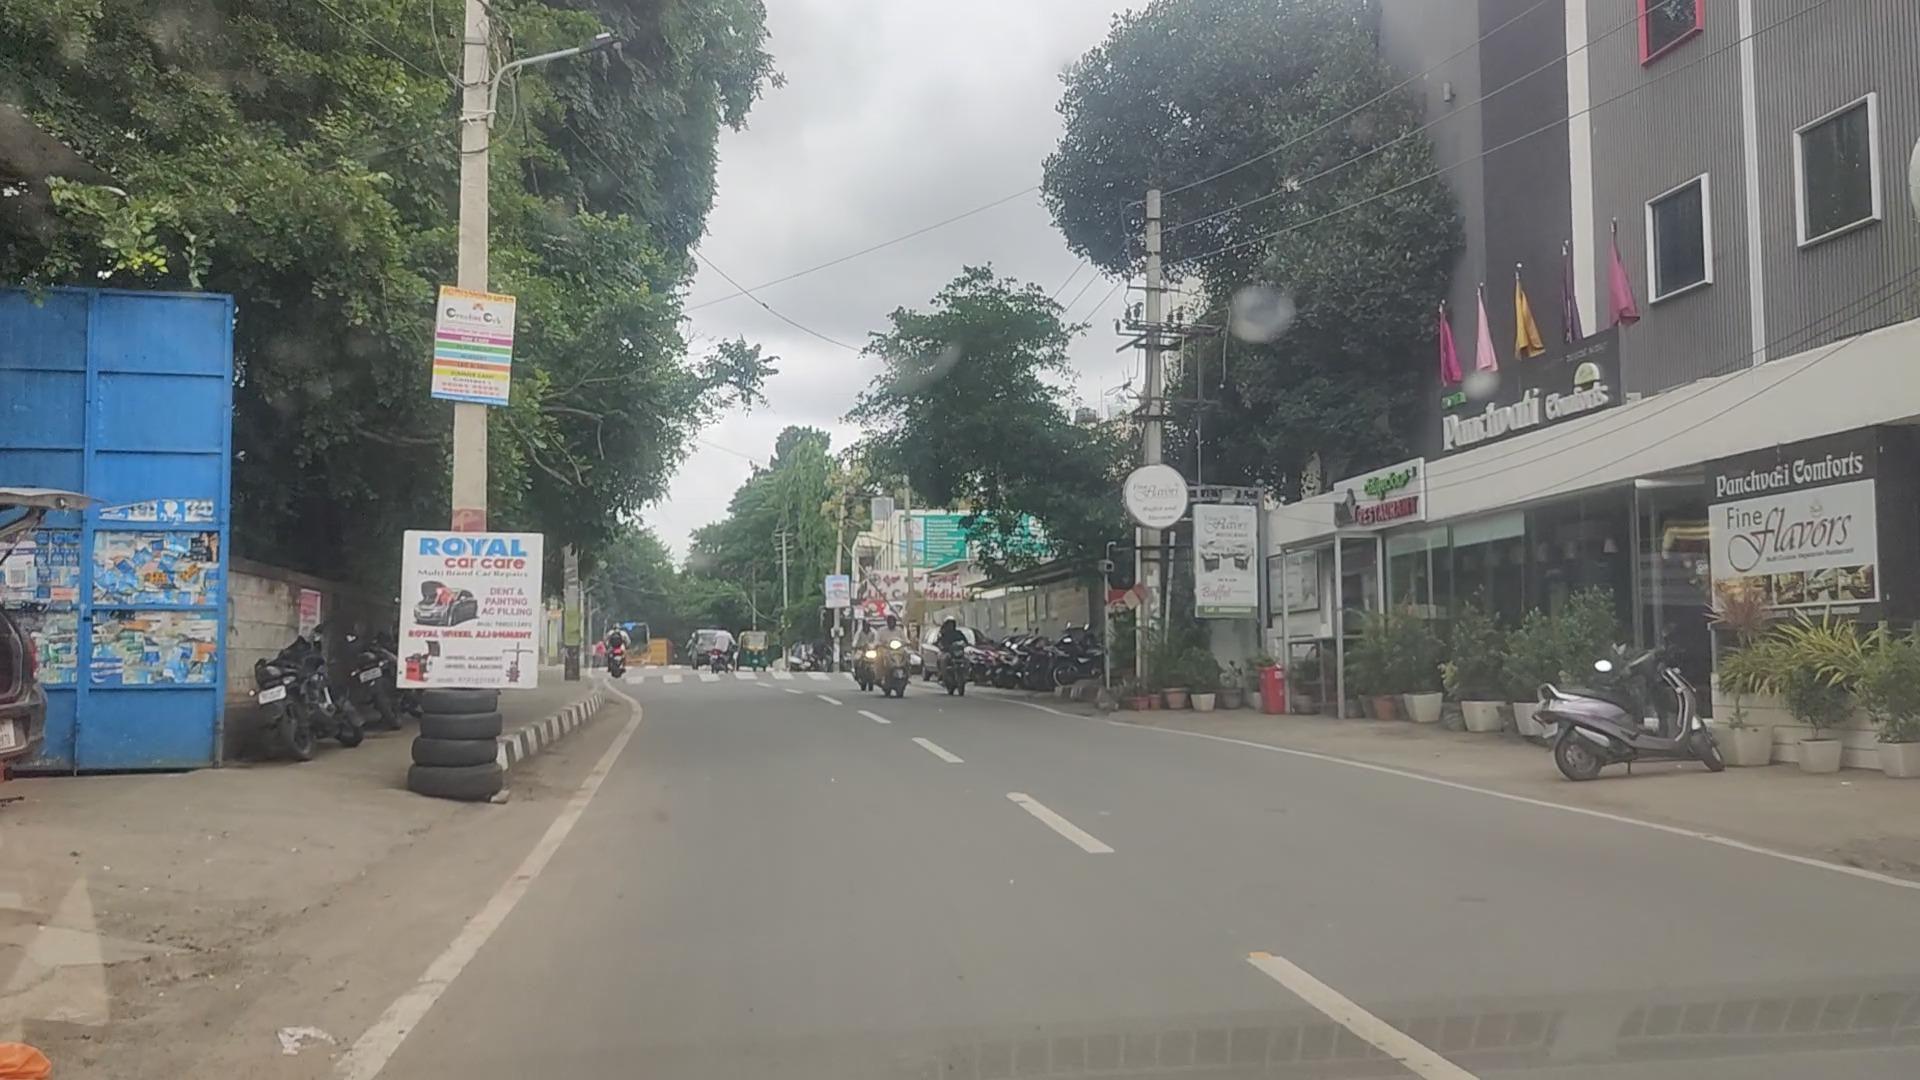RoadDamages: (28, 878, 265, 1052)
